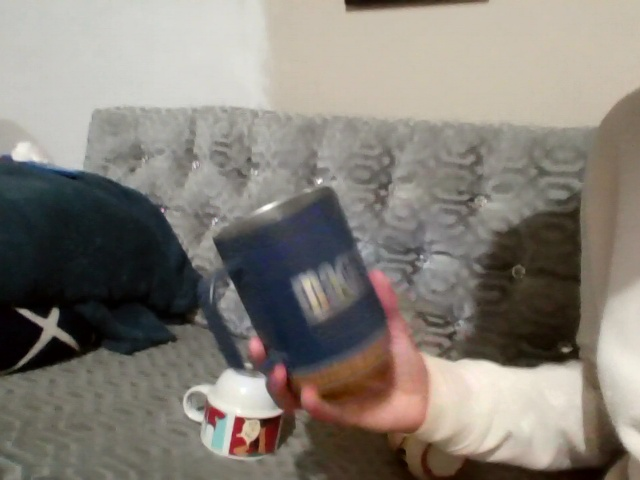taza: (186, 177, 433, 473), (182, 364, 295, 462)
